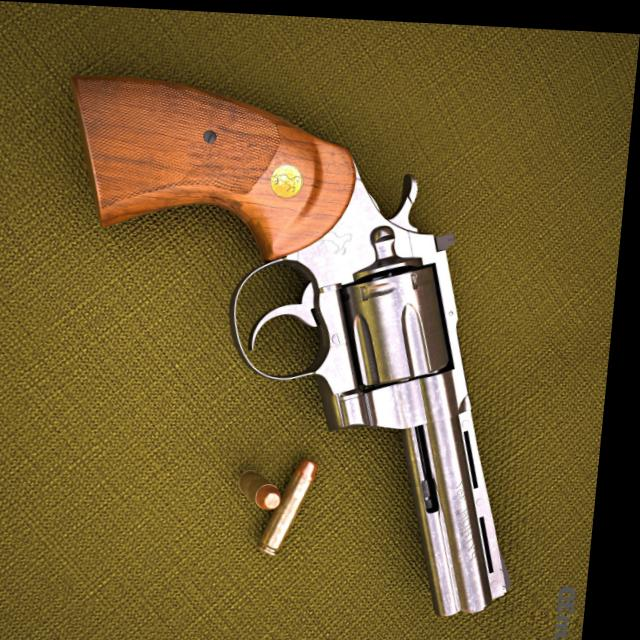handgun: (31, 67, 569, 613)
